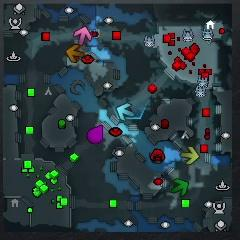p3: (87, 125, 104, 144)
x1: (74, 27, 92, 45)
x2: (181, 147, 199, 163)
x3: (116, 103, 134, 121)
x4: (171, 178, 189, 195)
x5: (67, 44, 85, 62)
